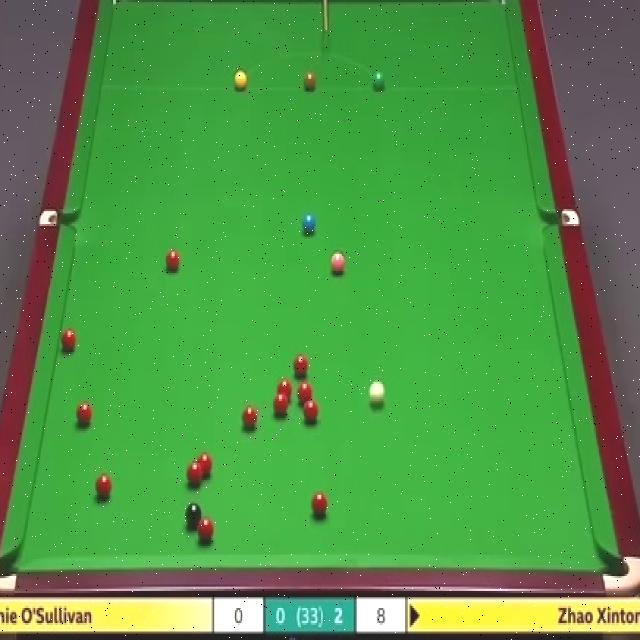black-ball: (184, 500, 204, 533)
blue-ball: (302, 212, 318, 238)
brown-ball: (303, 71, 318, 93)
green-ball: (370, 71, 385, 93)
pink-ball: (328, 247, 348, 277)
red-ball: (197, 518, 216, 548), (75, 399, 93, 428), (184, 462, 204, 488), (291, 352, 310, 379), (94, 472, 112, 500), (59, 326, 77, 354), (164, 248, 182, 272), (311, 492, 327, 518), (272, 394, 289, 418), (198, 451, 215, 475), (276, 378, 293, 401), (242, 406, 258, 430), (303, 399, 319, 423), (300, 384, 317, 403)
white-ball: (368, 380, 385, 409)
yellow-ball: (234, 70, 248, 92)
